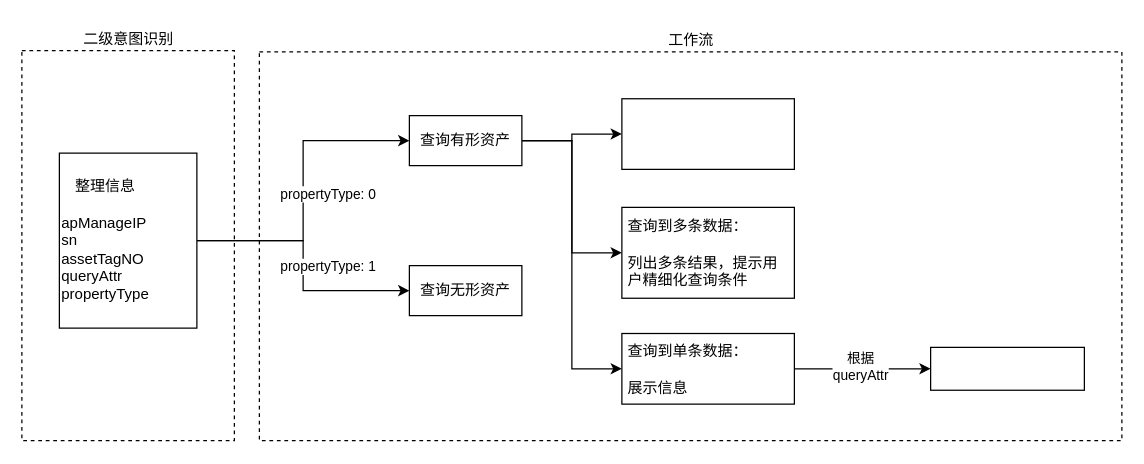
This 1144x464 diagram has some shape labels left out. The centre of each missing label's shape, as x and y in pixels:
强调某项具体信息: pixel 1006 368
查询条件不足： 提示用户补充条件: pixel 707 133
